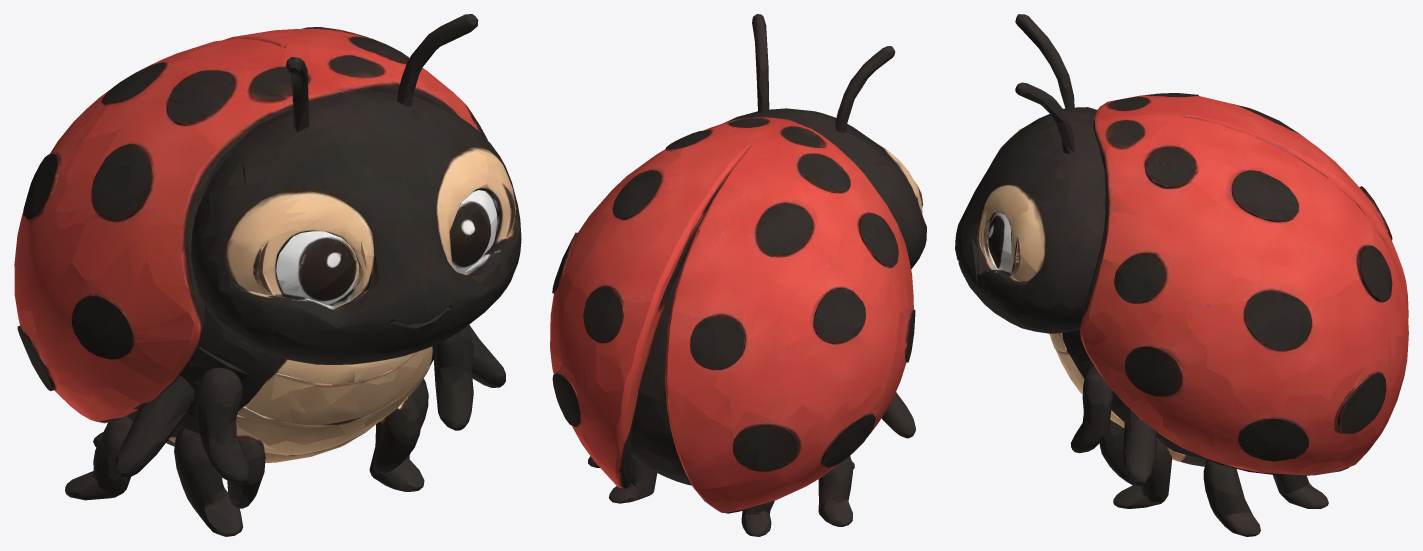
File: pet_dot.glb
3 renders of one model, left to right at view 1: azimuth 30°, elevation 25°; view 2: azimuth 150°, elevation 25°; view 3: azimuth 270°, elevation 25°, orthographic. The views are drawn at different scales.
Bounding box in the file's own units: 1.64 × 1.9 × 1.85.
1 material, 1 textured.
